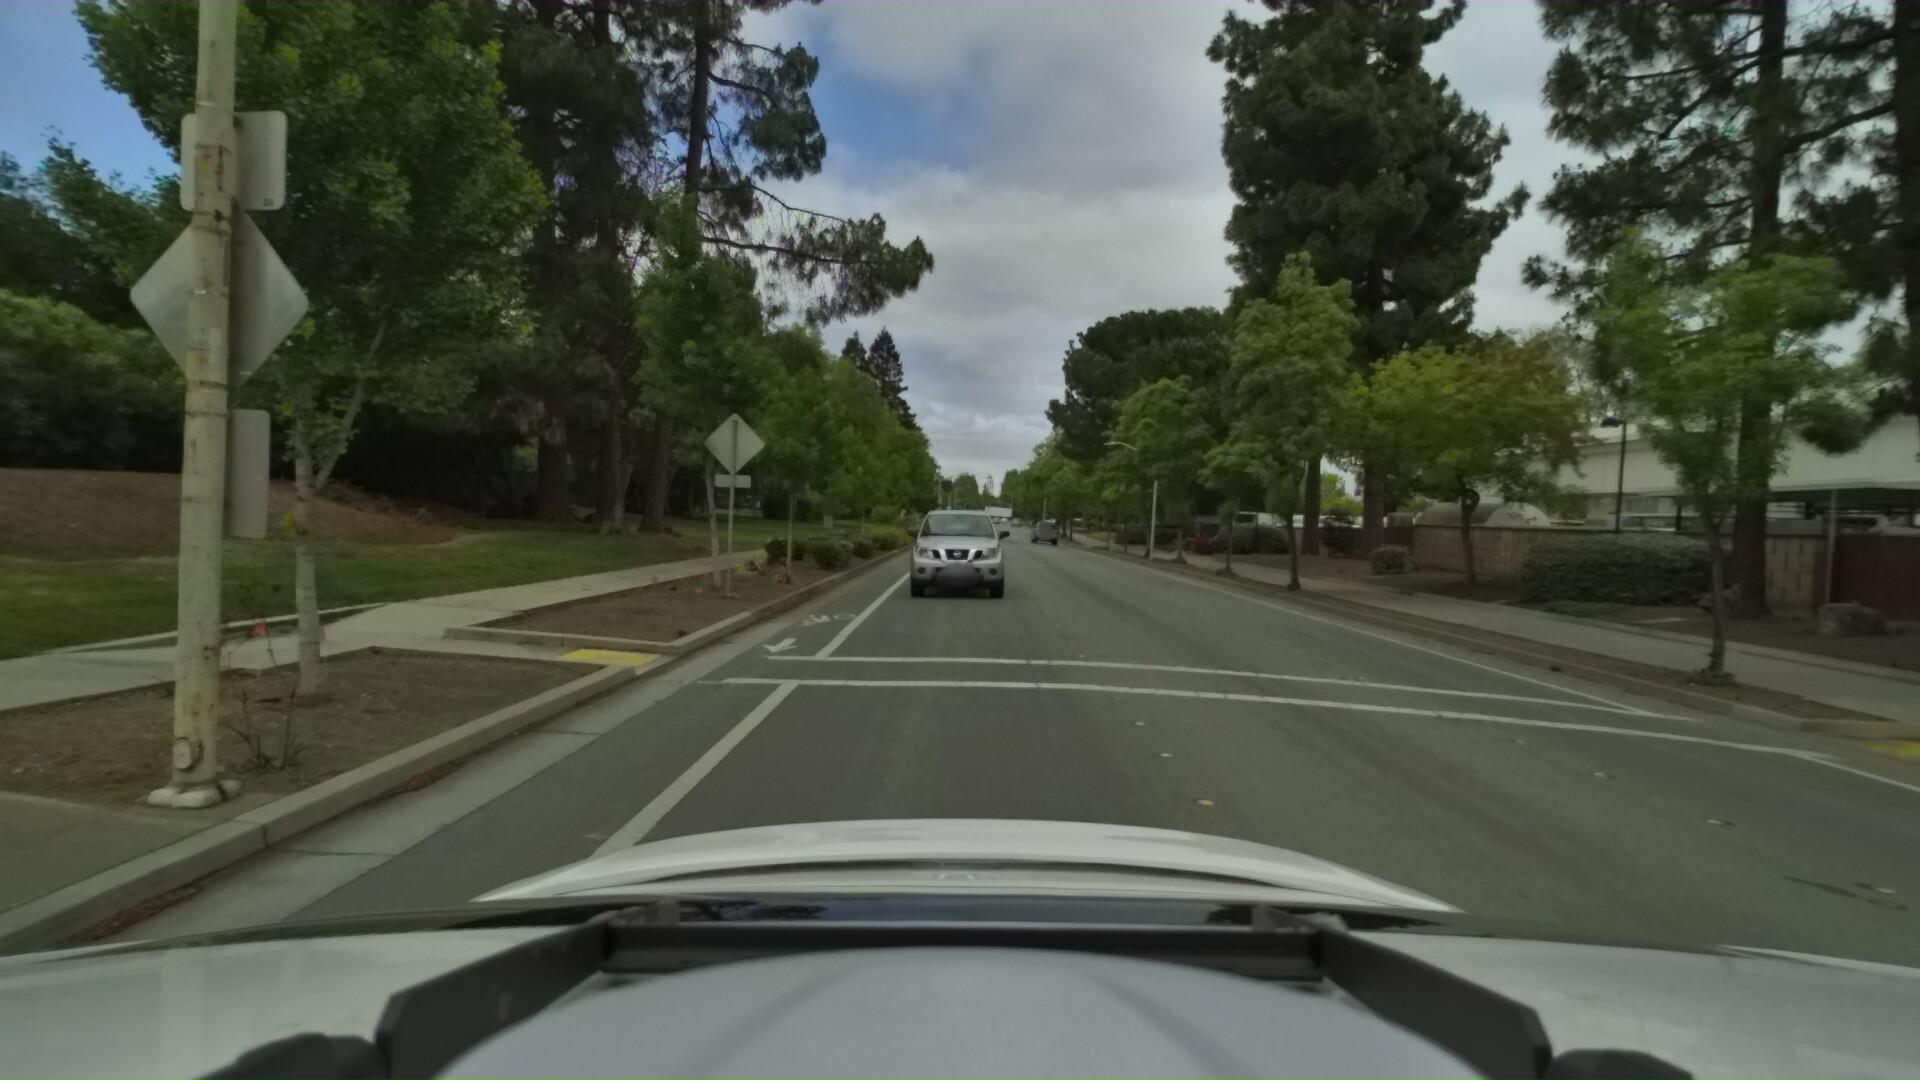car: (894, 495, 1018, 615), (927, 501, 993, 562), (1029, 516, 1060, 543)
